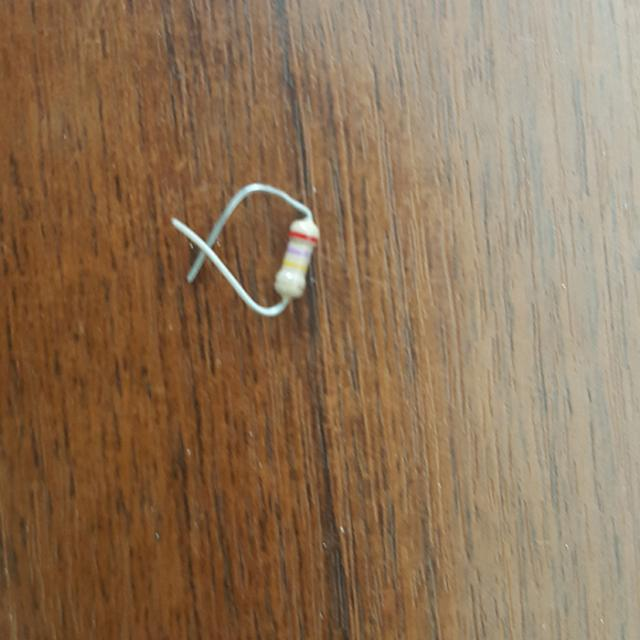gold: (276, 278, 304, 291)
red: (291, 231, 316, 241)
resistor: (256, 206, 343, 315)
violet: (287, 247, 309, 256)
yellow: (283, 260, 305, 269)
